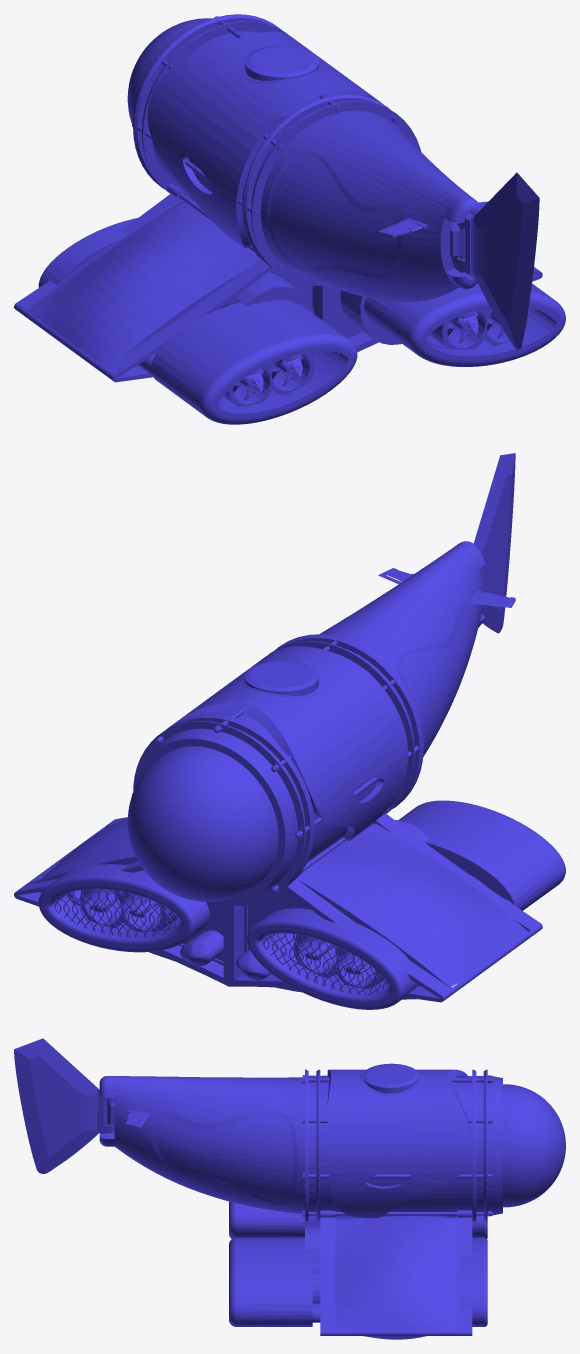
File: TSubermsible Assembly.stl.glb
3 renders of one model, top to bottom at view 1: azimuth 30°, elevation 25°; view 2: azimuth 150°, elevation 25°; view 3: azimuth 270°, elevation 25°, orthographic. The views are drawn at different scales.
Visible parts, largest first — view 1: TSubermsible Assembly.stl; view 2: TSubermsible Assembly.stl; view 3: TSubermsible Assembly.stl.
Boxes of the visible parts, <box> form: TSubermsible Assembly.stl: <box>14,14,565,424</box>; TSubermsible Assembly.stl: <box>14,453,565,1009</box>; TSubermsible Assembly.stl: <box>14,1038,565,1339</box>.
Size of the model in its own units: 5 by 3.65 by 7.25.
